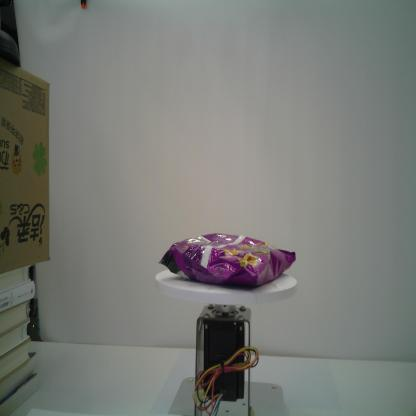Instant Noodles: (158, 232, 297, 289)
